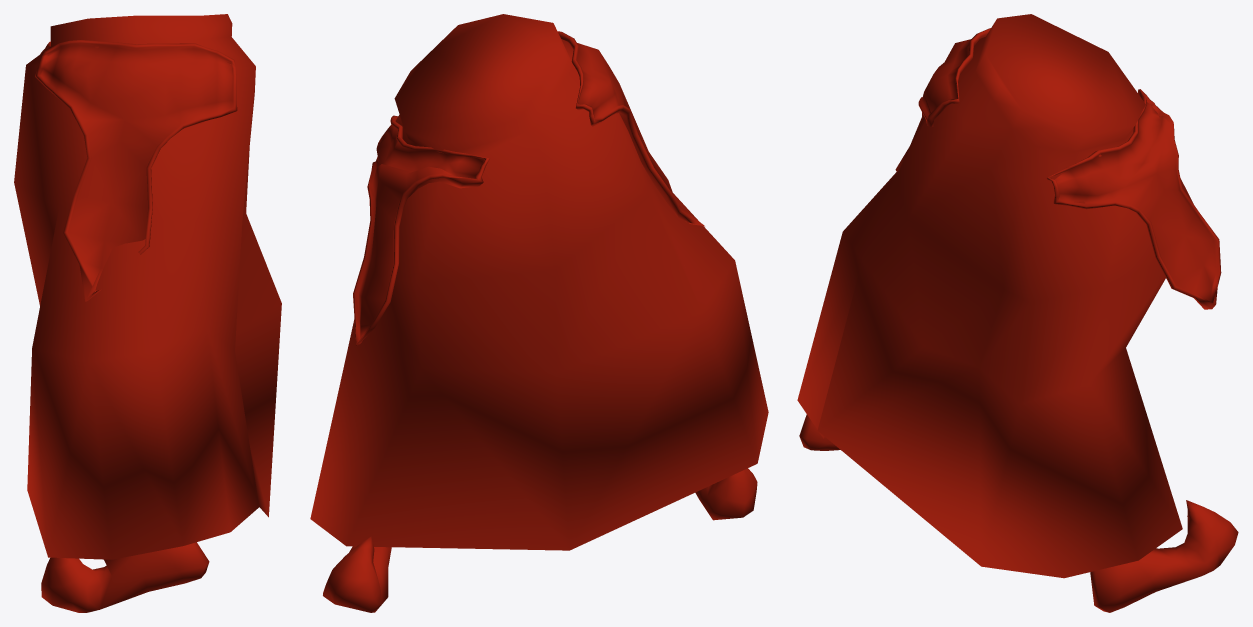
The model's file is bot_000077.obj.
3 renders of one model, left to right at view 1: azimuth 30°, elevation 25°; view 2: azimuth 150°, elevation 25°; view 3: azimuth 270°, elevation 25°, orthographic. The views are drawn at different scales.
Visible parts, largest first — view 1: LowPoly_Warlock.004_Plane.004; view 2: LowPoly_Warlock.004_Plane.004; view 3: LowPoly_Warlock.004_Plane.004.
Boxes of the visible parts, x1,y1,x2,y2 form: LowPoly_Warlock.004_Plane.004: (14,14,281,612); LowPoly_Warlock.004_Plane.004: (310,14,768,612); LowPoly_Warlock.004_Plane.004: (797,14,1238,612).
Size of the model in its own units: 0.6883 by 1.17 by 0.8747.
